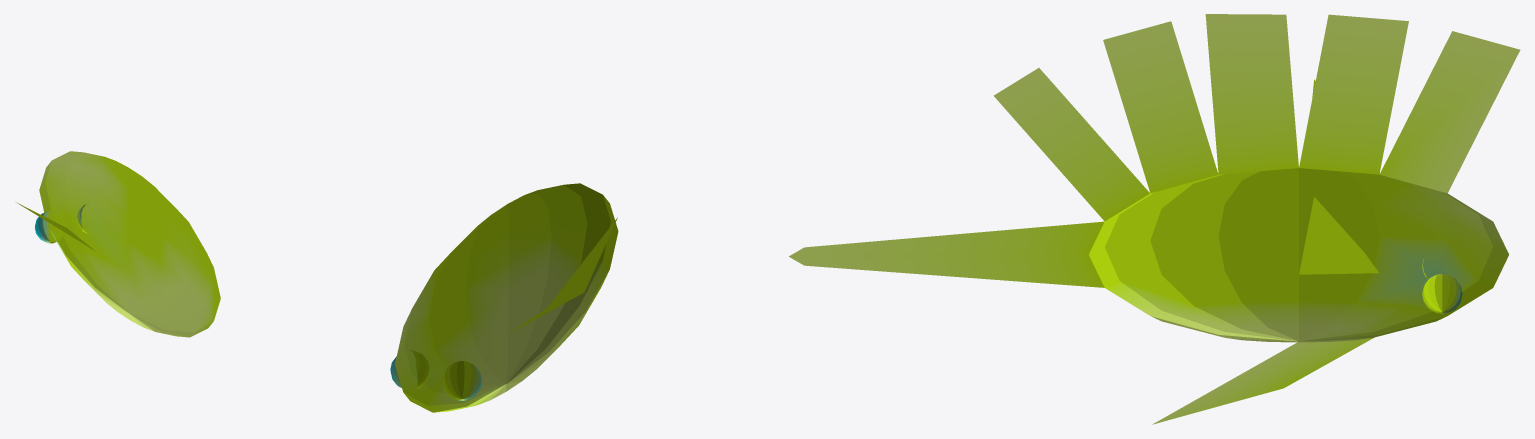
The model's file is brimstone.glb.
The picture shows the model from 3 angles, left to right: view 1: azimuth 30°, elevation 25°; view 2: azimuth 150°, elevation 25°; view 3: azimuth 270°, elevation 25°; orthographic projection. The views are drawn at different scales.
Parts seen in each view (by area): view 1: Brimstone; view 2: Brimstone; view 3: Brimstone.
Boxes of the visible parts, box(x1,y1,x2,y2) form: Brimstone: box(16, 151, 220, 337); Brimstone: box(390, 183, 618, 412); Brimstone: box(789, 14, 1520, 424).
Bounding box in the file's own units: 0.7408 × 1.21 × 1.95.
